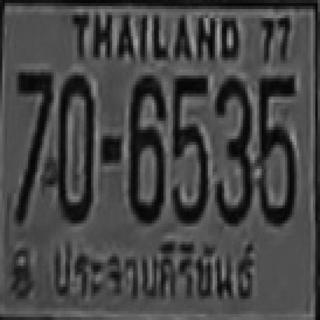N00: (54, 72, 93, 220)
N03: (213, 75, 250, 224)
N05: (170, 72, 206, 218), (257, 72, 294, 175)
N06: (127, 72, 165, 220)
N07: (16, 71, 51, 180), (16, 70, 51, 160)
P50: (47, 232, 268, 314)
